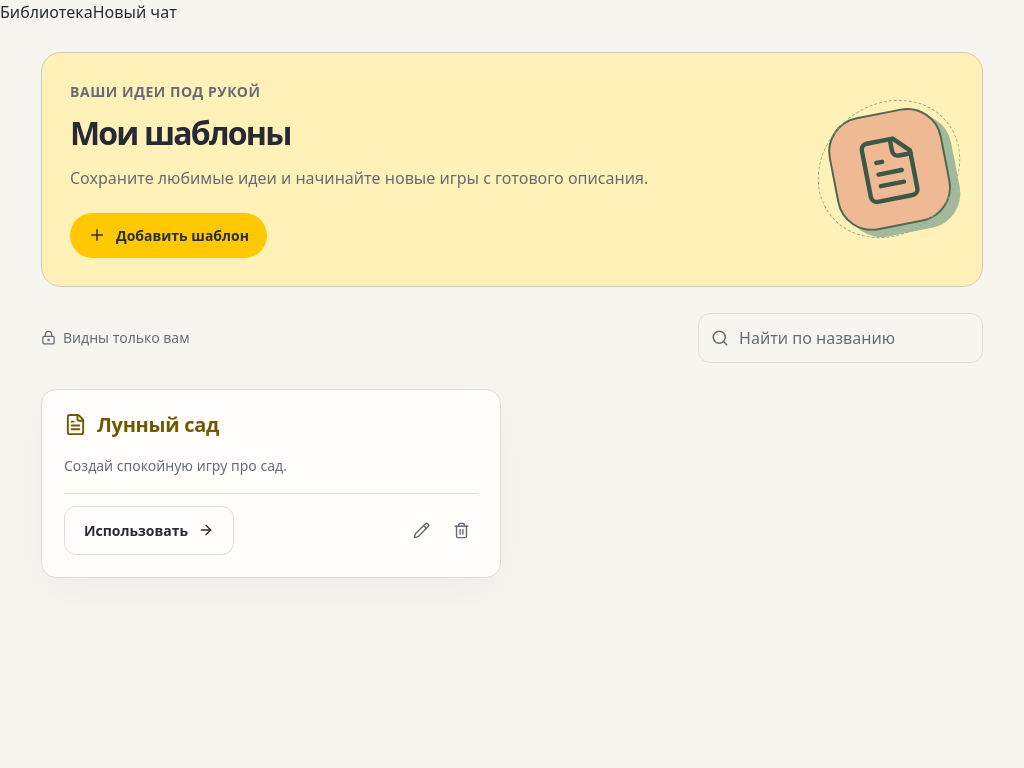
Test: searches and deletes only after confirmation, preserving the list on an error
This screenshot has width=1024, height=768.
Expected: the heading "Лунный сад" is shown, [97,412,219,438]
Type "нет такого" into the search field.
click(854, 338); type("нет такого")  # box [739,314,970,362]
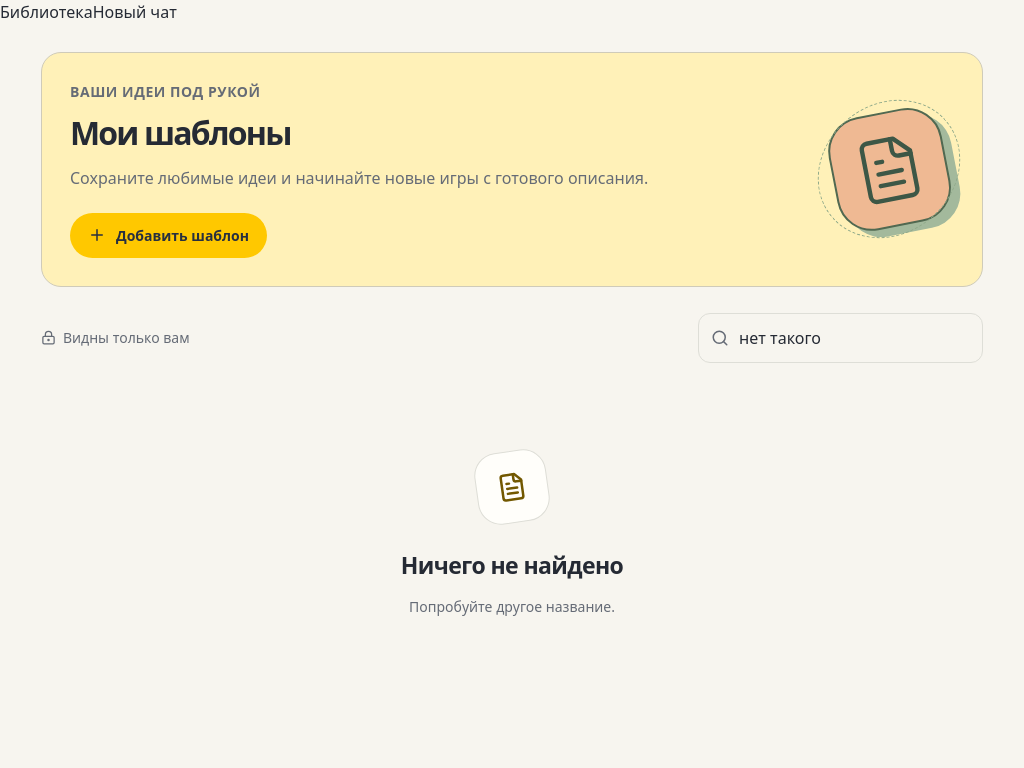
Now the heading "Лунный сад" is gone
Replace the text in the search field with "сад" at (854, 338), box [739,314,970,362]
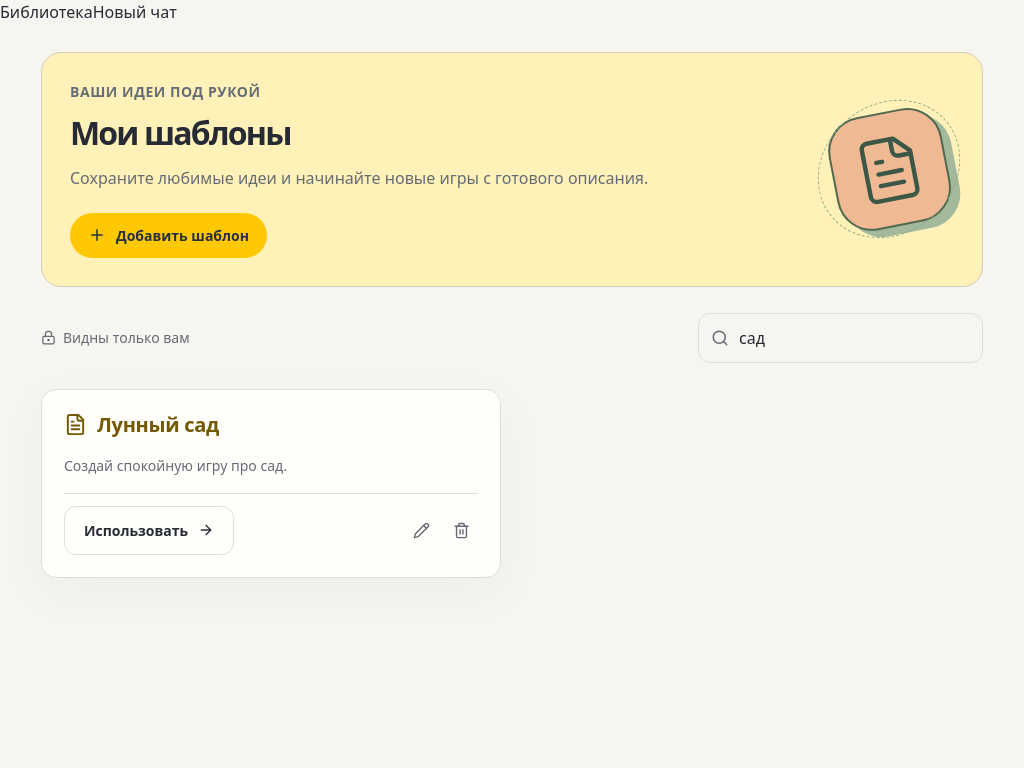
Click the button named "Удалить шаблон Лунный сад".
click(461, 530)  # box [444,513,478,547]
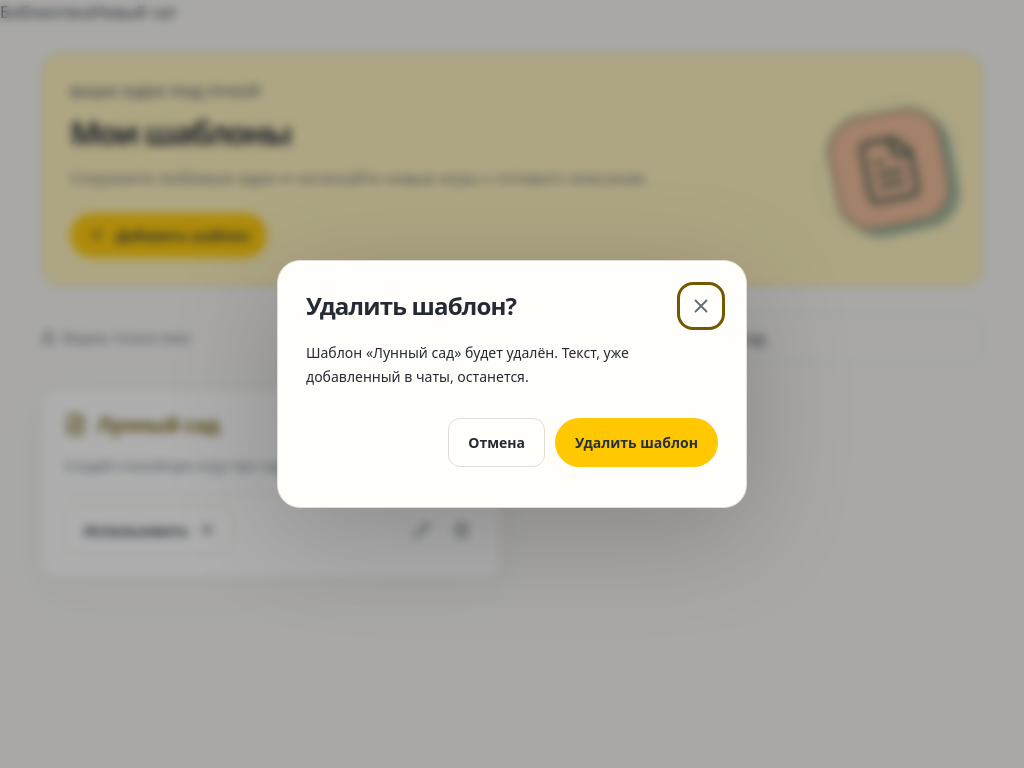
Click the button "Удалить шаблон".
click(636, 442)  # box [555,418,718,467]
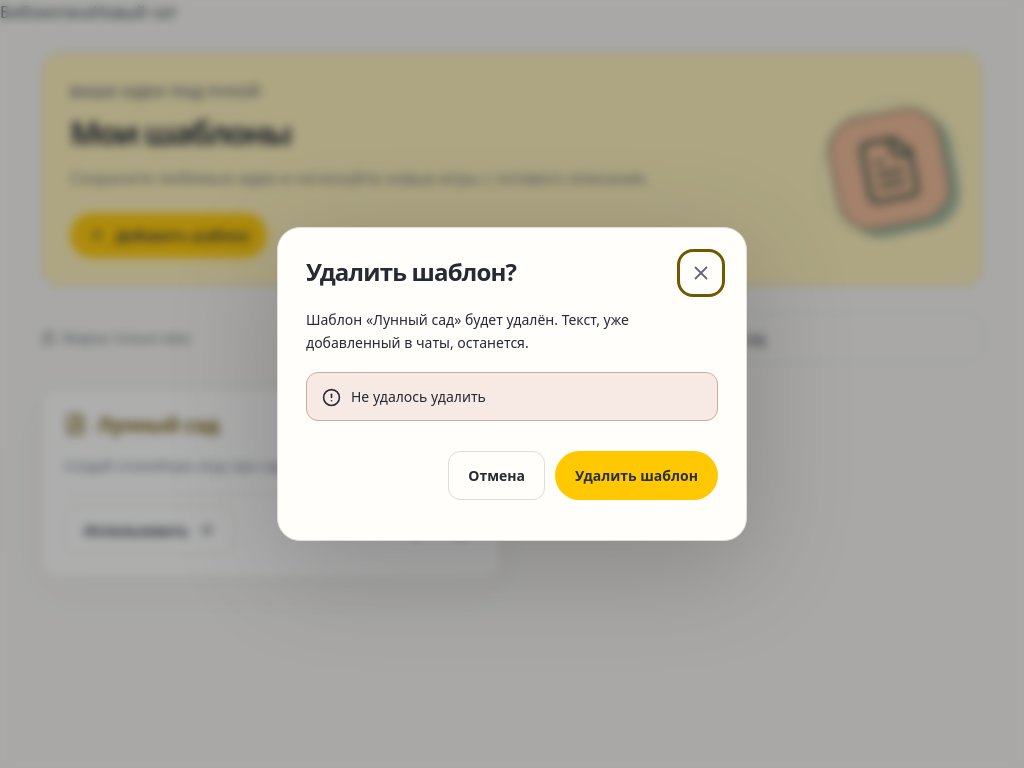
Now the heading "Лунный сад" is shown, box [97,412,219,438]
Now the text "Не удалось удалить" is shown, box [351,387,486,406]
Click the button "Удалить шаблон".
click(636, 476)  # box [555,451,718,500]
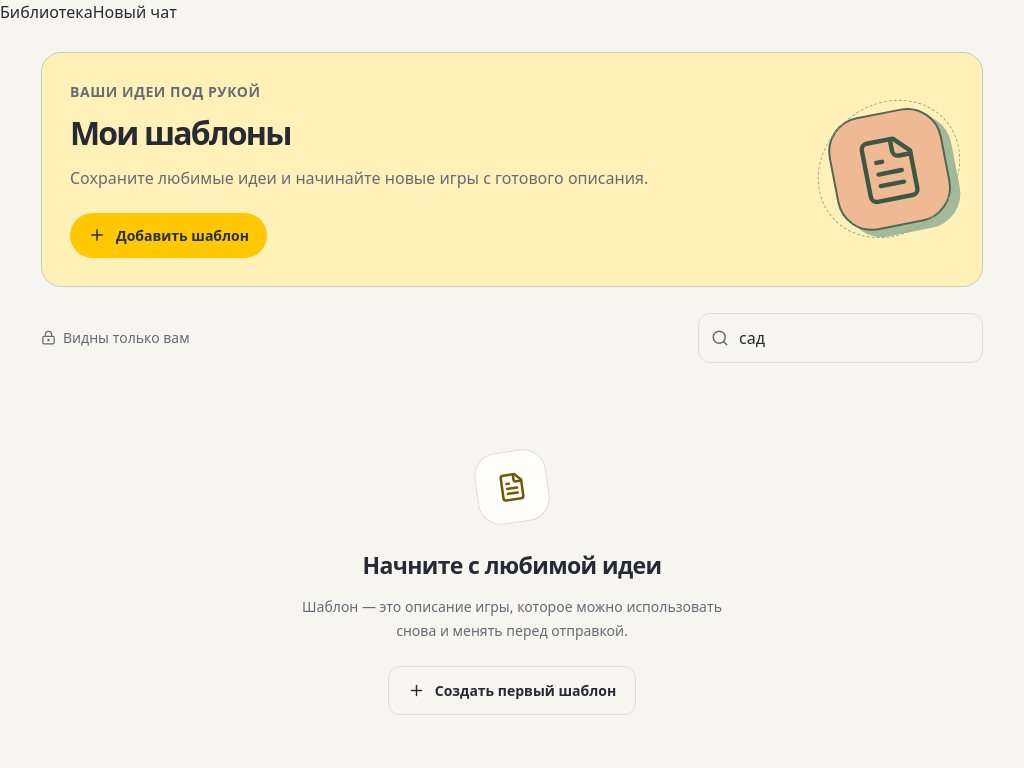
Now the heading "Начните с любимой идеи" is shown, box [362,549,662,581]
